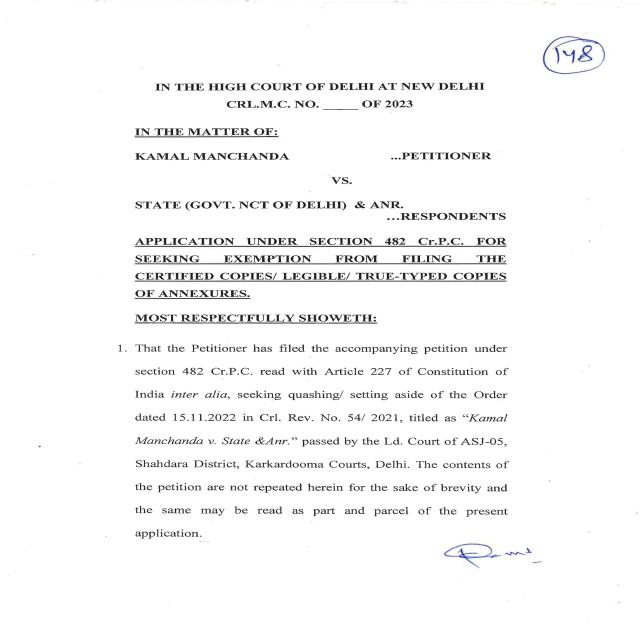page-number: (498, 0, 640, 104)
